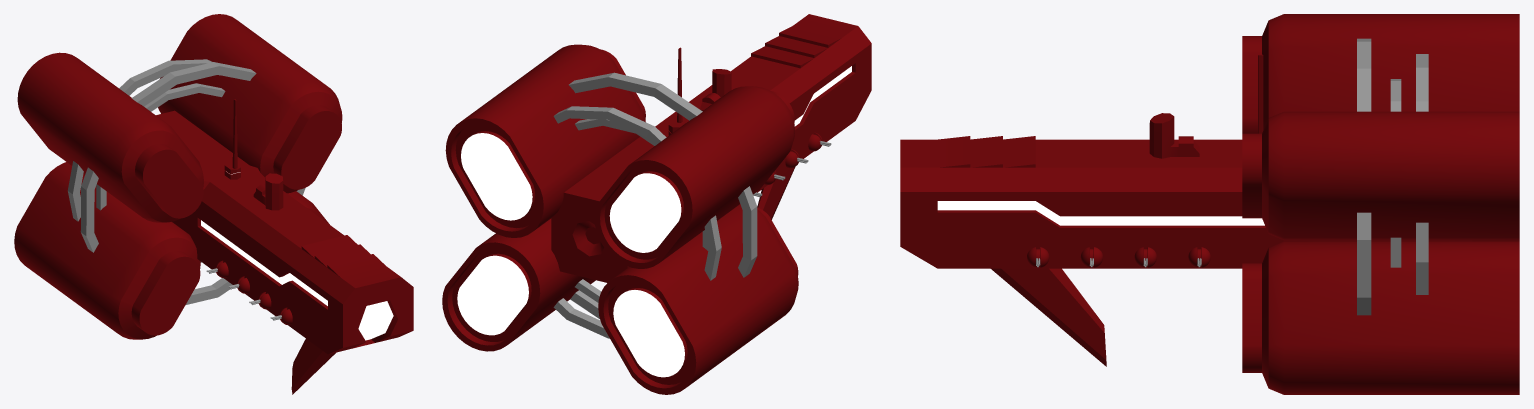
The model's file is SpaceShip_withColor.fbx.
3 views of the same model, side by side, from view 1: azimuth 30°, elevation 25°; view 2: azimuth 150°, elevation 25°; view 3: azimuth 270°, elevation 25° (orthographic). The views are drawn at different scales.
Visible parts, largest first — view 1: MainCarrier, motor_1, motor_3, motor_4, OuterRing, MiddleRing, Cube.001, MinorRing, Turrets_2, Control_Center, Cube; view 2: motor_1, motor_4, motor_3, MainCarrier, motor_2, OuterRing, MiddleRing, MinorRing, Cube.001, Control_Center, Turrets_2, Cube; view 3: MainCarrier, motor_2, motor_4, motor_3, Cube.001, OuterRing, MiddleRing, Control_Center, Turrets_1, MinorRing.
Part boxes in pixels (<box>): MainCarrier: <box>156,110,413,354</box>; motor_1: <box>14,162,200,339</box>; motor_3: <box>17,52,203,222</box>; motor_4: <box>158,14,342,193</box>; OuterRing: <box>80,62,305,305</box>; MiddleRing: <box>67,59,219,262</box>; Cube.001: <box>291,339,336,394</box>; MinorRing: <box>96,83,225,210</box>; Turrets_2: <box>206,260,292,324</box>; Control_Center: <box>253,173,283,210</box>; Cube: <box>224,99,240,179</box>; motor_1: <box>598,204,798,394</box>; motor_4: <box>445,44,645,237</box>; motor_3: <box>594,86,794,268</box>; MainCarrier: <box>551,14,871,282</box>; motor_2: <box>442,218,595,351</box>; OuterRing: <box>569,72,757,318</box>; MiddleRing: <box>553,106,721,338</box>; MinorRing: <box>575,119,708,302</box>; Cube.001: <box>757,166,795,219</box>; Control_Center: <box>700,69,731,110</box>; Turrets_2: <box>753,132,831,196</box>; Cube: <box>668,47,685,135</box>; MainCarrier: <box>900,136,1472,268</box>; motor_2: <box>1242,241,1519,394</box>; motor_4: <box>1242,111,1519,240</box>; motor_3: <box>1242,14,1519,133</box>; Cube.001: <box>991,268,1106,366</box>; OuterRing: <box>1357,38,1371,315</box>; MiddleRing: <box>1416,54,1428,294</box>; Control_Center: <box>1149,113,1199,158</box>; Turrets_1: <box>1027,247,1210,267</box>; MinorRing: <box>1390,79,1401,267</box>.
Bounding box in the file's own units: 667 × 674 × 1202.
